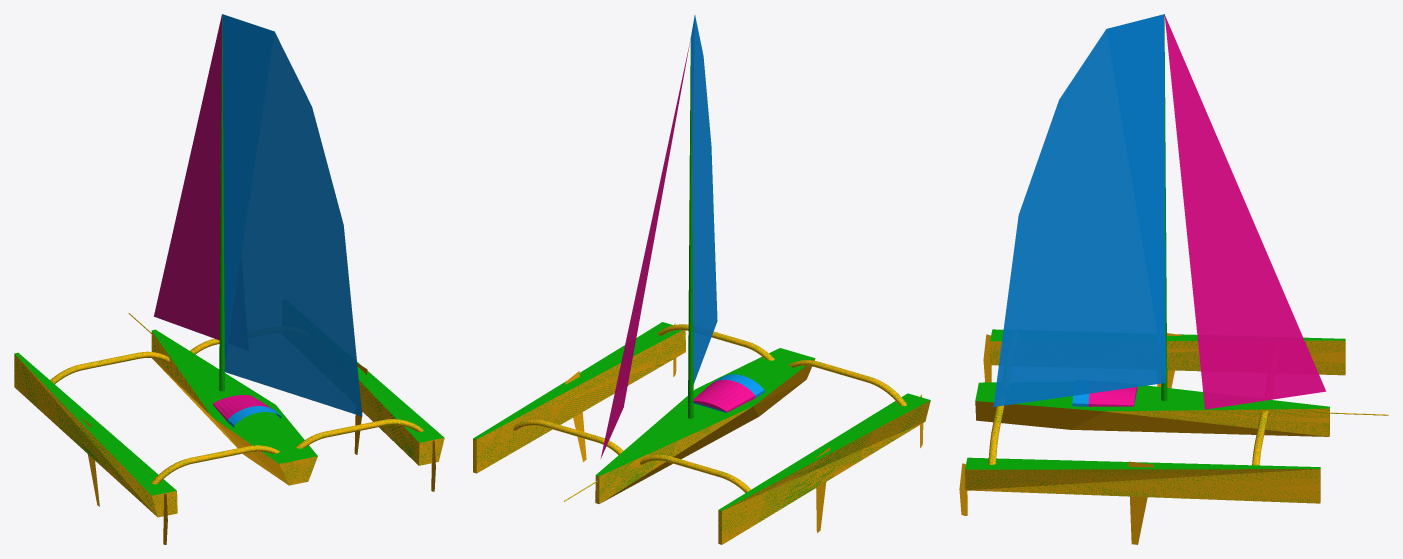
File: TRIMARAN_FOC_BABORD.dae
The picture shows the model from 3 angles, left to right: view 1: azimuth 30°, elevation 25°; view 2: azimuth 150°, elevation 25°; view 3: azimuth 270°, elevation 25°; orthographic projection. The views are drawn at different scales.
Parts seen in each view (by area): view 1: instance_1 (×3), SketchUp (×13); view 2: SketchUp (×13), instance_1 (×3); view 3: instance_1 (×3), SketchUp (×9).
Boxes of the visible parts, <box> form: instance_1 (×3): <box>154,14,362,416</box>; SketchUp (×13): <box>14,329,444,517</box>; SketchUp (×13): <box>473,322,930,544</box>; instance_1 (×3): <box>600,15,717,458</box>; instance_1 (×3): <box>993,14,1326,409</box>; SketchUp (×9): <box>965,340,1345,544</box>.
Bounding box in the file's own units: 90181 × 111154 × 135025.
